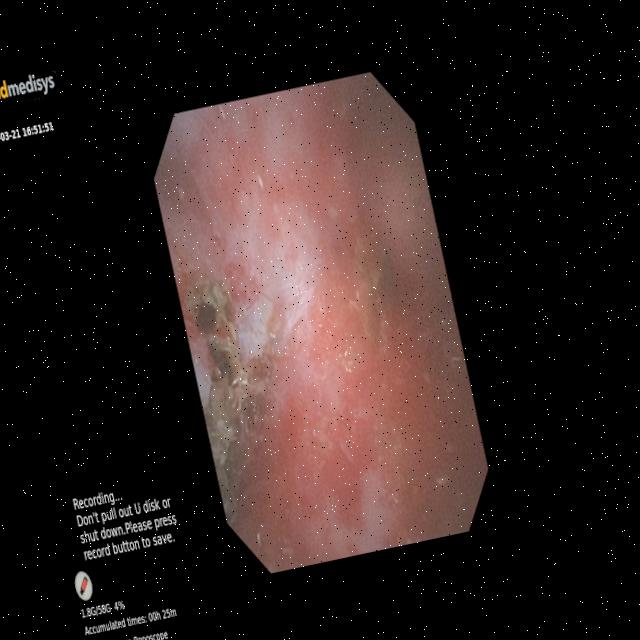stone-new: (186, 278, 269, 523)
